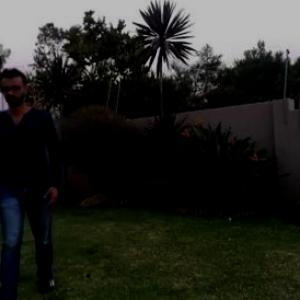follow: (1, 71, 50, 283)
